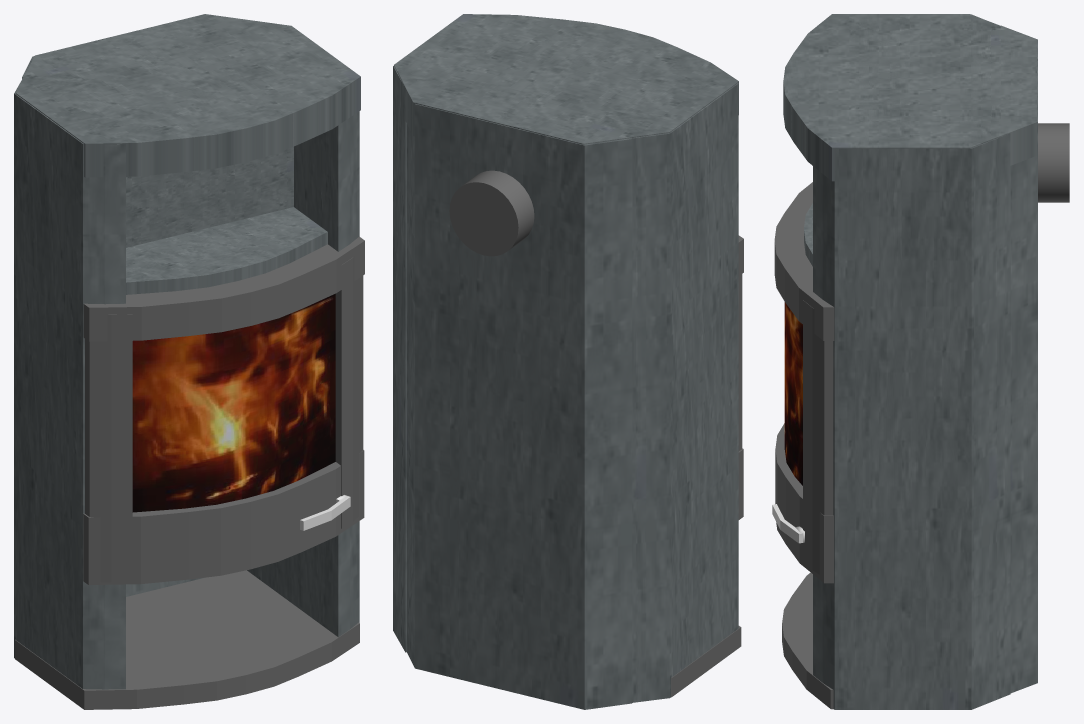
File: sweethome3d-contributions-stove-343.glb
3 views of the same model, side by side, from view 1: azimuth 30°, elevation 25°; view 2: azimuth 150°, elevation 25°; view 3: azimuth 270°, elevation 25° (orthographic).
Parts seen in each view (by area): view 1: Extruded_Object_4_4, Extruded_Object_1_1, Extruded_Object_9_10, Extruded_Object_2_2, Extruded_Object_7_8, Extruded_Object_5_5, Extruded_Object_8_9, Extruded_Object_4_1_11, Extruded_Object_3_1_7, Cube_2_16, Extruded_Object_4_2_12, Extruded_Object_10_13 (+1 smaller); view 2: Extruded_Object_6_6, Extruded_Object_4_4, Extruded_Object_1_1, Extruded_Object_5_5, Cylinder_1_15, Extruded_Object_2_2, Extruded_Object_4_1_11; view 3: Extruded_Object_5_5, Extruded_Object_1_1, Extruded_Object_6_6, Extruded_Object_4_2_12, Extruded_Object_8_9, Extruded_Object_7_8, Extruded_Object_2_2, Extruded_Object_9_10, Cylinder_1_15, Extruded_Object_10_13.
Boxes of the visible parts, x1,y1,x2,y2 form: Extruded_Object_4_4: (14,71,125,689); Extruded_Object_1_1: (16,14,360,177); Extruded_Object_9_10: (132,293,335,512); Extruded_Object_2_2: (15,570,359,709); Extruded_Object_7_8: (83,450,364,584); Extruded_Object_5_5: (247,111,359,637); Extruded_Object_8_9: (83,236,364,341); Extruded_Object_4_1_11: (85,314,132,582); Extruded_Object_3_1_7: (126,207,327,294); Cube_2_16: (126,146,293,247); Extruded_Object_4_2_12: (335,256,363,528); Extruded_Object_10_13: (300,496,350,530); Extruded_Object_6_6: (406,103,632,709); Extruded_Object_4_4: (618,83,738,702); Extruded_Object_1_1: (394,14,738,144); Extruded_Object_5_5: (393,66,406,652); Cylinder_1_15: (449,170,534,256); Extruded_Object_2_2: (671,626,741,697); Extruded_Object_4_1_11: (738,274,742,451); Extruded_Object_5_5: (813,133,1010,709); Extruded_Object_1_1: (783,14,1036,181); Extruded_Object_6_6: (1001,25,1037,693); Extruded_Object_4_2_12: (803,300,833,574); Extruded_Object_8_9: (774,182,834,340); Extruded_Object_7_8: (775,423,833,583); Extruded_Object_2_2: (782,572,833,709); Extruded_Object_9_10: (784,302,802,485); Cylinder_1_15: (1038,123,1069,202); Extruded_Object_10_13: (772,504,803,543).
Size of the model in its own units: 60.18 by 117 by 56.15.
Materials: 6 (4 with a texture image).
